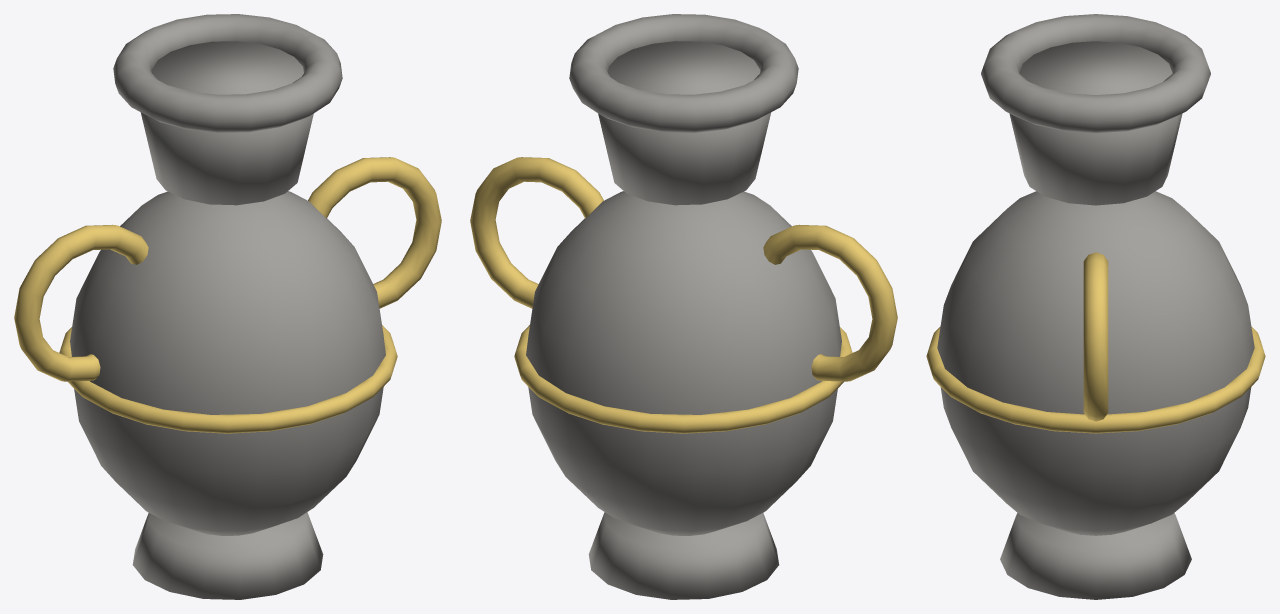
Rendered from urn.glb.
3 views of the same model, side by side, from view 1: azimuth 30°, elevation 25°; view 2: azimuth 150°, elevation 25°; view 3: azimuth 270°, elevation 25° (orthographic).
Visible parts, largest first — view 1: GD_urn; view 2: GD_urn; view 3: GD_urn.
Part boxes in pixels (x1,y1,x2,y2): GD_urn: (14,14,441,599); GD_urn: (470,14,897,599); GD_urn: (926,14,1265,599).
Size of the model in its own units: 0.306 by 0.3464 by 0.212.
